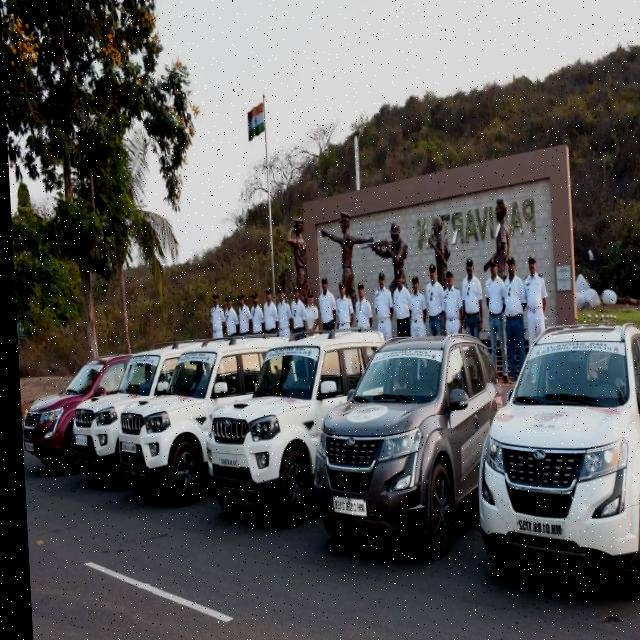plate: (509, 511, 558, 540), (324, 494, 362, 520), (213, 451, 234, 471), (68, 432, 85, 450), (116, 439, 133, 455), (18, 437, 31, 453)
